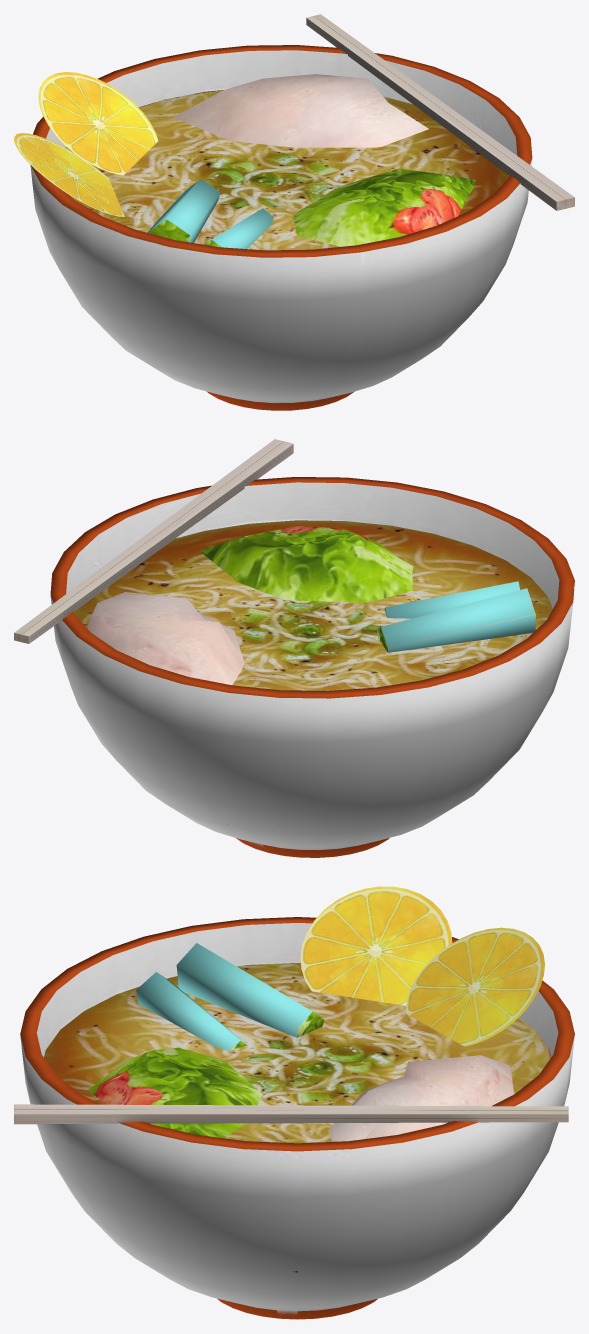
File: lamyramen.glb
3 renders of one model, top to bottom at view 1: azimuth 30°, elevation 25°; view 2: azimuth 150°, elevation 25°; view 3: azimuth 270°, elevation 25°, orthographic. The views are drawn at different scales.
Visible parts, largest first — view 1: bowl, addon, chop; view 2: bowl, addon, chop; view 3: bowl, addon, chop.
Part boxes in pixels (x1,y1,x2,y2): bowl: (30, 45, 532, 410); addon: (14, 72, 475, 248); chop: (306, 14, 574, 210); bowl: (50, 477, 574, 857); addon: (86, 526, 535, 685); chop: (14, 439, 293, 643); bowl: (20, 917, 574, 1319); addon: (88, 886, 544, 1141); chop: (14, 1104, 568, 1124).
Size of the model in its own units: 0.2085 by 0.1133 by 0.2083.
Materials: 3 (3 with a texture image).
